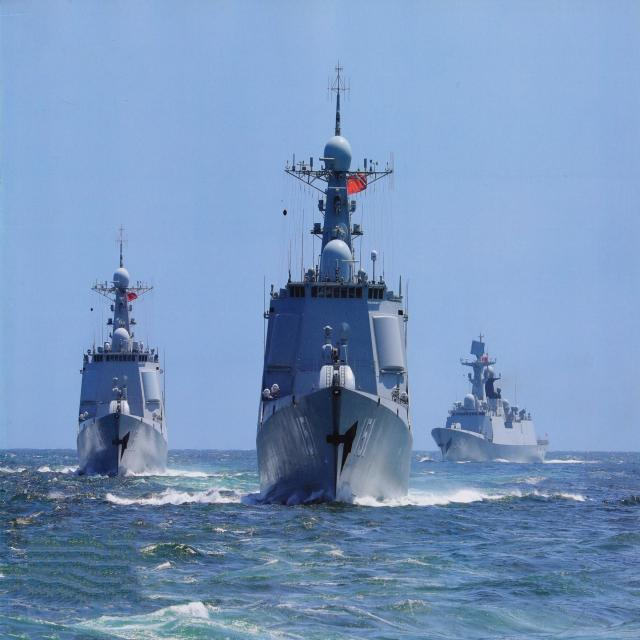navalvessels: (246, 44, 415, 507), (74, 224, 171, 477), (429, 334, 538, 470)
